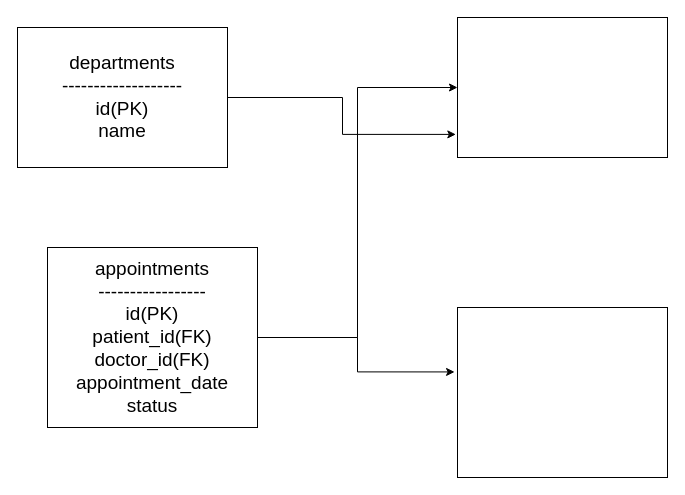
Image size: 685x495. Some labels were removed from this diagram. The shapes that lost their labels are listed below. From the top down, each one's box as (x1, y1, x2, y2) in pixels, then its label:
(456, 16, 668, 158): doctors -------------- id(PK) full_name department_id(FK)
(456, 306, 668, 478): patients -------------- id(PK) full_name birth_date gender
